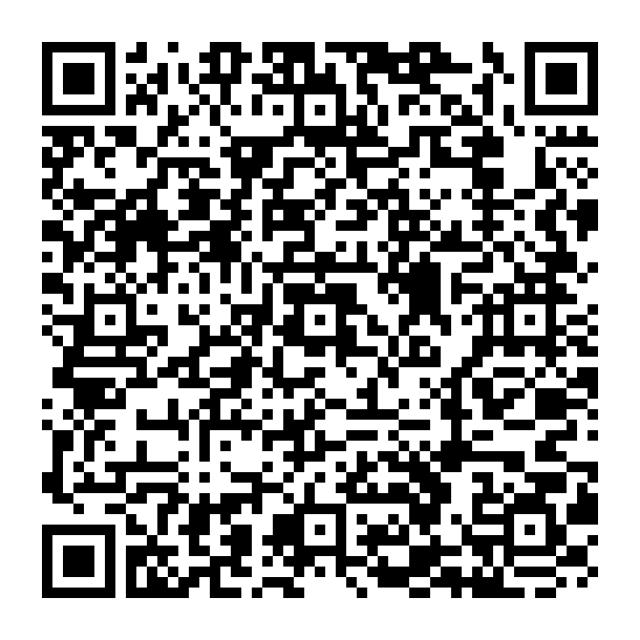QRCode: (1, 1, 640, 631)
